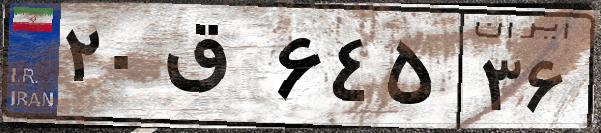0: (110, 28, 158, 98)
2: (57, 26, 110, 100)
3: (475, 38, 525, 113)
4: (330, 28, 385, 110)
5: (385, 28, 445, 110)
6: (270, 28, 330, 110), (525, 38, 570, 115)
ق: (158, 20, 270, 120)
